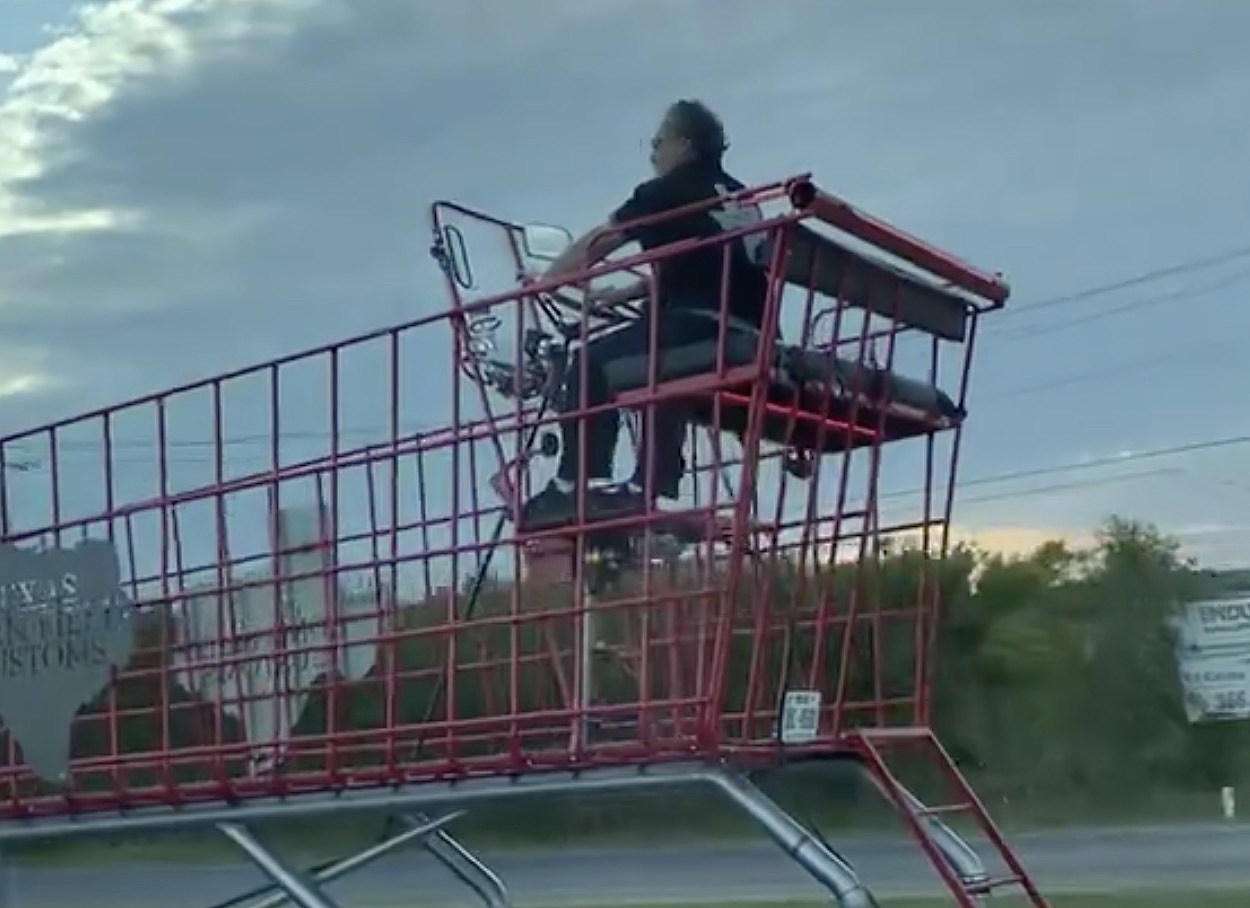shopping_cart: (11, 206, 1075, 908)
